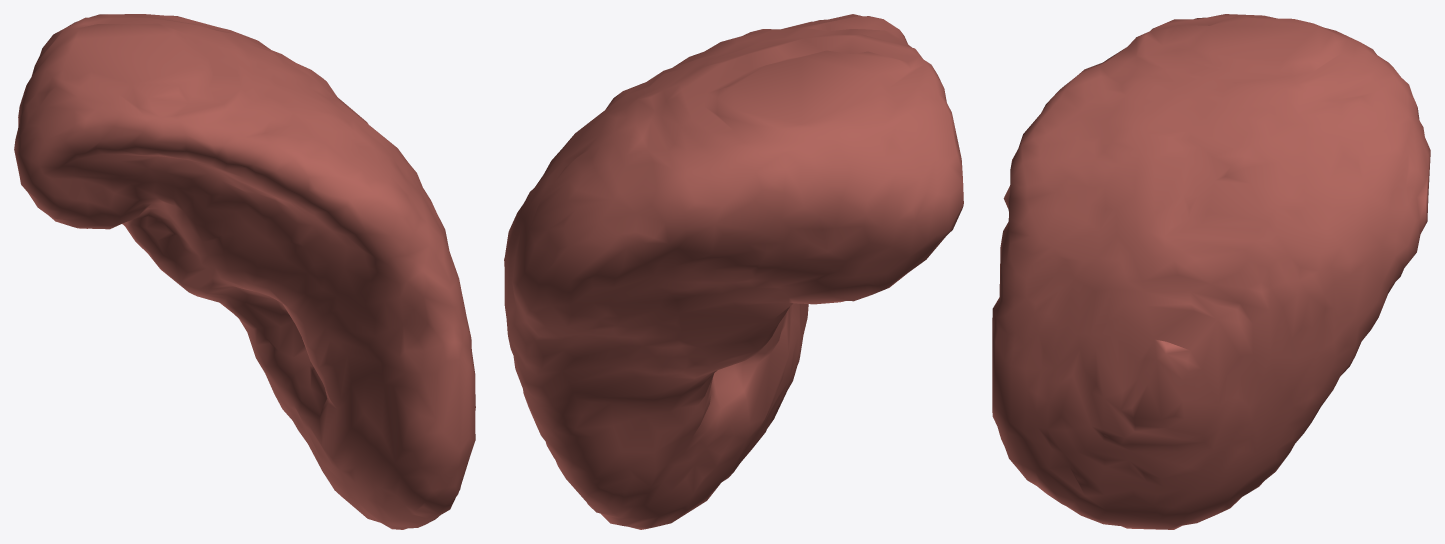
File: tsd_s0327_older_adult_male.lymphatic.LOD4.glb
The picture shows the model from 3 angles, left to right: view 1: azimuth 30°, elevation 25°; view 2: azimuth 150°, elevation 25°; view 3: azimuth 270°, elevation 25°; orthographic projection. The views are drawn at different scales.
Parts seen in each view (by area): view 1: TSD_S0327.OLDER_ADULT.MALE.LYMPHATIC.SPLEEN; view 2: TSD_S0327.OLDER_ADULT.MALE.LYMPHATIC.SPLEEN; view 3: TSD_S0327.OLDER_ADULT.MALE.LYMPHATIC.SPLEEN.
Part boxes in pixels (<box>): TSD_S0327.OLDER_ADULT.MALE.LYMPHATIC.SPLEEN: <box>14,14,475,529</box>; TSD_S0327.OLDER_ADULT.MALE.LYMPHATIC.SPLEEN: <box>504,14,963,529</box>; TSD_S0327.OLDER_ADULT.MALE.LYMPHATIC.SPLEEN: <box>992,14,1430,529</box>.
Bounding box in the file's own units: 0.0791 × 0.0945 × 0.0917.
